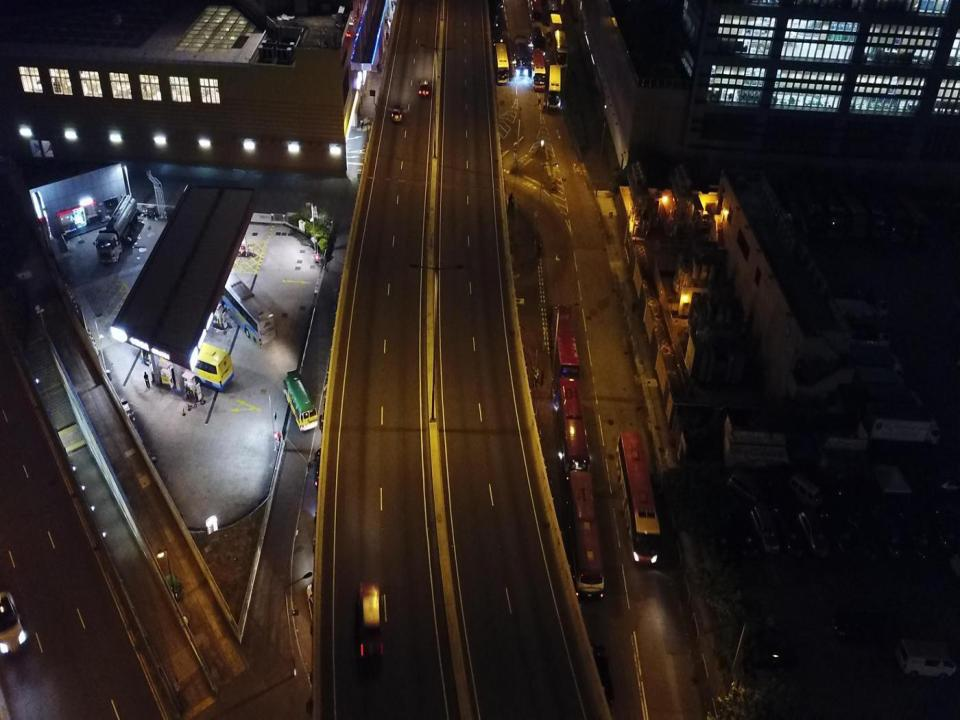bus: (618, 426, 662, 566), (215, 260, 277, 346), (140, 336, 234, 391), (570, 467, 605, 599), (558, 378, 592, 482), (553, 302, 580, 388), (284, 373, 319, 430), (530, 48, 546, 92), (514, 36, 530, 76), (495, 43, 510, 84), (548, 64, 561, 111), (554, 30, 569, 70), (533, 19, 546, 55), (528, 0, 543, 26), (547, 0, 558, 26)
car: (355, 582, 384, 668), (585, 641, 616, 710), (0, 591, 28, 653), (304, 580, 325, 625), (313, 444, 329, 491), (418, 79, 430, 98), (490, 9, 502, 28), (492, 26, 503, 46), (391, 104, 402, 122), (492, 0, 504, 11)
truck: (95, 194, 137, 264), (550, 13, 563, 37)
